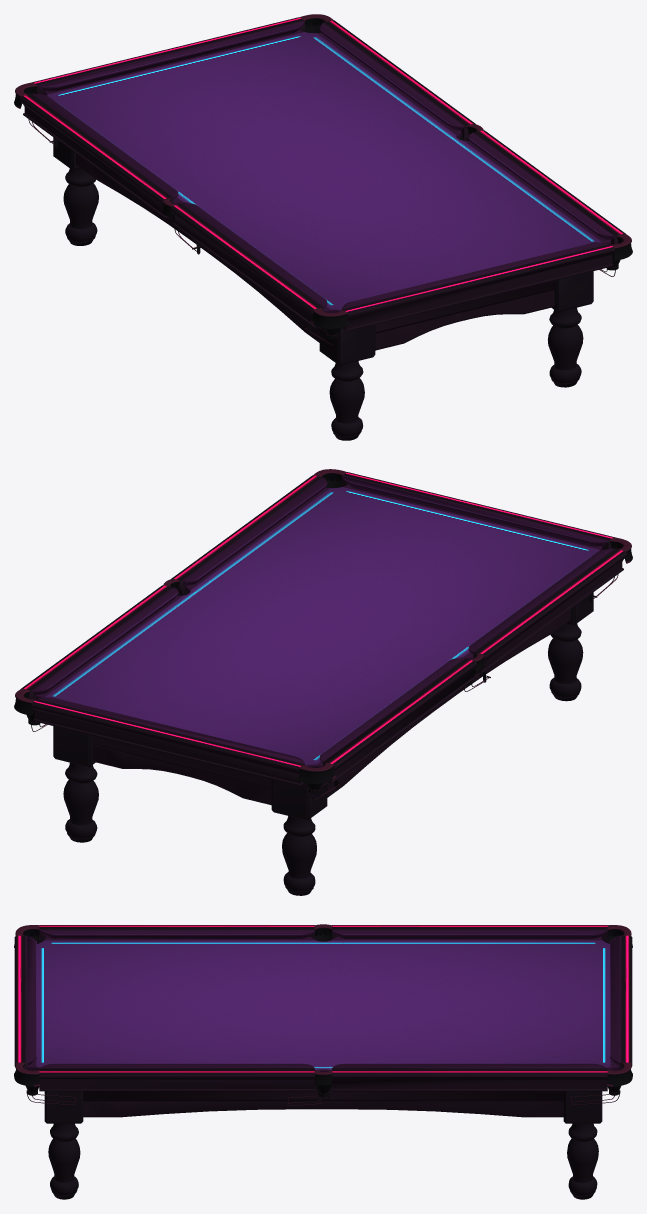
File: SnookerTable_Arcade.fbx
The picture shows the model from 3 angles, top to bottom: view 1: azimuth 30°, elevation 25°; view 2: azimuth 150°, elevation 25°; view 3: azimuth 270°, elevation 25°; orthographic projection. The views are drawn at different scales.
Visible parts, largest first — view 1: SnookerTable_Combined; view 2: SnookerTable_Combined; view 3: SnookerTable_Combined.
Boxes of the visible parts, left/top/right/bottom form: SnookerTable_Combined: left=14, top=14, right=632, bottom=440; SnookerTable_Combined: left=14, top=469, right=632, bottom=895; SnookerTable_Combined: left=14, top=924, right=632, bottom=1199.
Bounding box in the file's own units: 9.35 × 4.16 × 16.21.
1 material, 1 textured.
